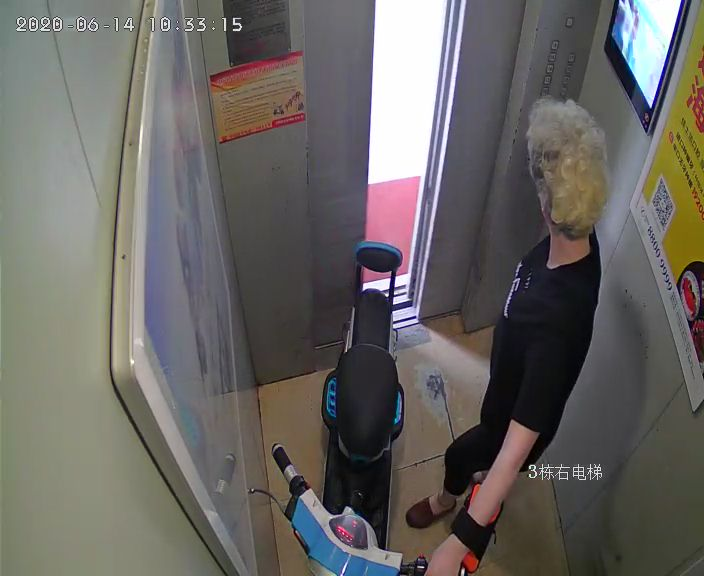Electric-bicycle: (248, 242, 461, 575)
